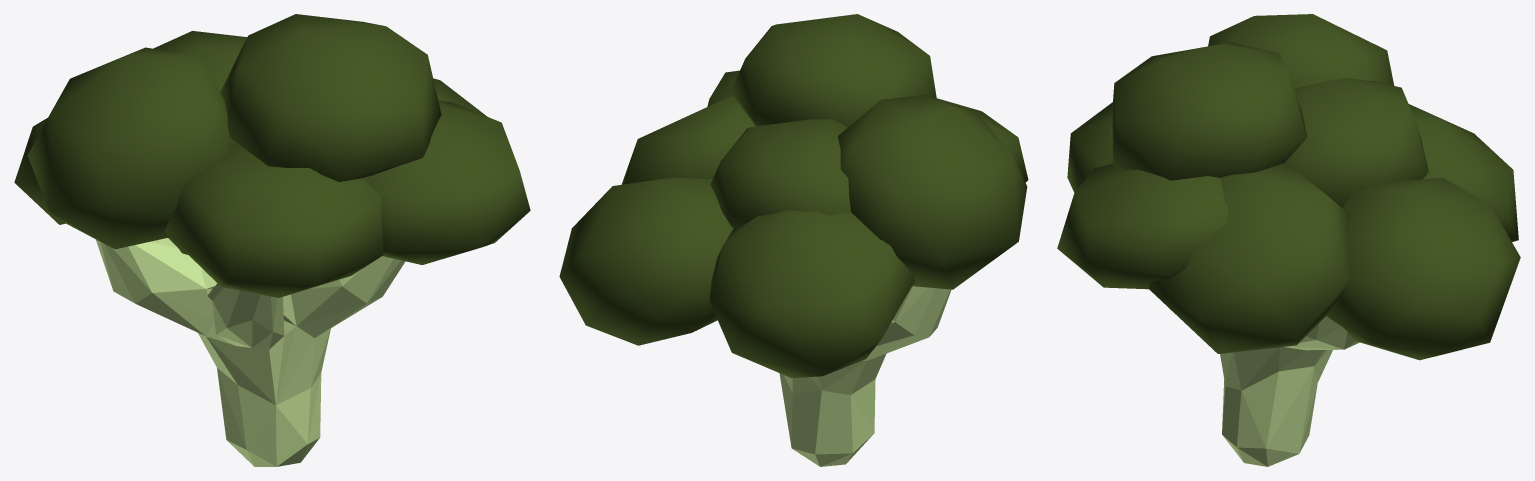
File: brocoli.fbx
3 views of the same model, side by side, from view 1: azimuth 30°, elevation 25°; view 2: azimuth 150°, elevation 25°; view 3: azimuth 270°, elevation 25° (orthographic). The views are drawn at different scales.
Parts seen in each view (by area): view 1: Broccoli.GR_10; view 2: Broccoli.GR_10; view 3: Broccoli.GR_10.
Part boxes in pixels (x1,y1,x2,y2): Broccoli.GR_10: (14, 14, 530, 466); Broccoli.GR_10: (559, 14, 1028, 466); Broccoli.GR_10: (1057, 14, 1520, 466).
Size of the model in its own units: 15.07 by 14.85 by 14.88.
